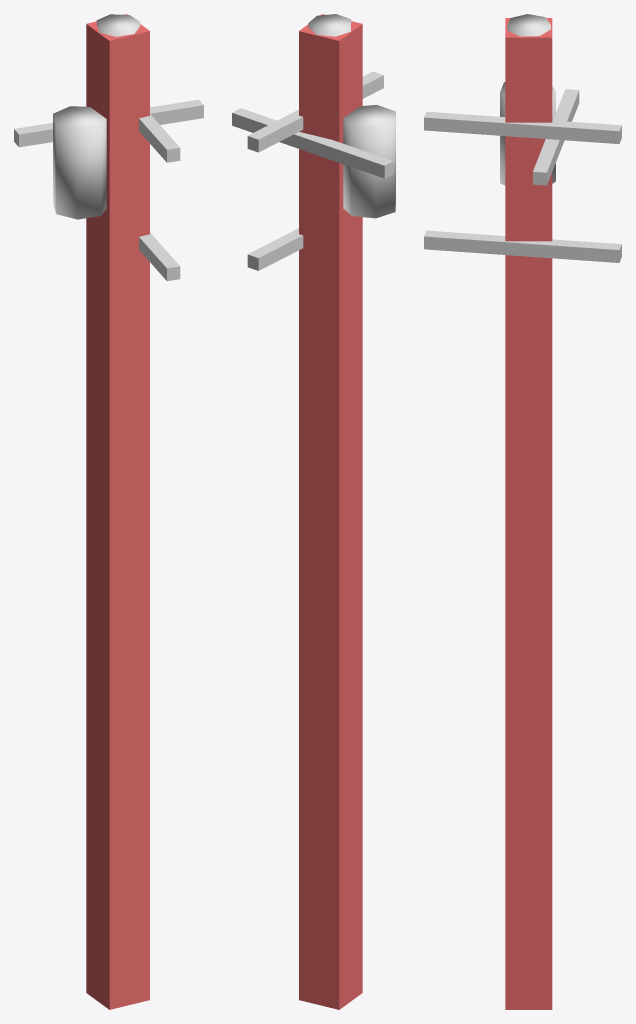
The model's file is prop_telepole.glb.
The picture shows the model from 3 angles, left to right: view 1: azimuth 30°, elevation 25°; view 2: azimuth 150°, elevation 25°; view 3: azimuth 270°, elevation 25°; orthographic projection.
Visible parts, largest first — view 1: brush_box.014, prop_telepole; view 2: brush_box.014, prop_telepole; view 3: brush_box.014, prop_telepole.
Boxes of the visible parts, x1=… form: brush_box.014: x1=86, y1=14, x2=149, y2=1009; prop_telepole: x1=14, y1=14, x2=203, y2=281; brush_box.014: x1=299, y1=14, x2=362, y2=1009; prop_telepole: x1=232, y1=14, x2=395, y2=270; brush_box.014: x1=505, y1=18, x2=552, y2=1009; prop_telepole: x1=424, y1=14, x2=621, y2=262.
Size of the model in its own units: 1.64 by 8.95 by 1.64.
